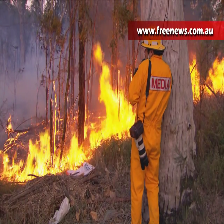fire_h: (90, 43, 137, 150), (1, 132, 86, 184), (189, 51, 224, 102)
fire_l: (6, 114, 12, 132)
